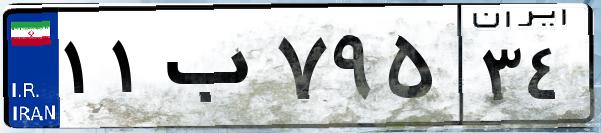1: (57, 26, 110, 100), (110, 28, 158, 98)
3: (475, 38, 525, 113)
4: (525, 38, 570, 115)
5: (385, 28, 445, 110)
7: (270, 28, 330, 110)
9: (330, 28, 385, 110)
ب: (158, 20, 270, 120)
